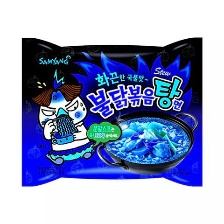snack: (13, 30, 210, 193)
